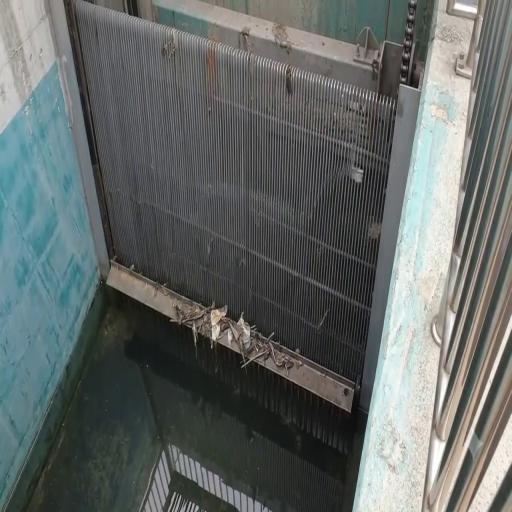rake_broken: (166, 286, 287, 376)
